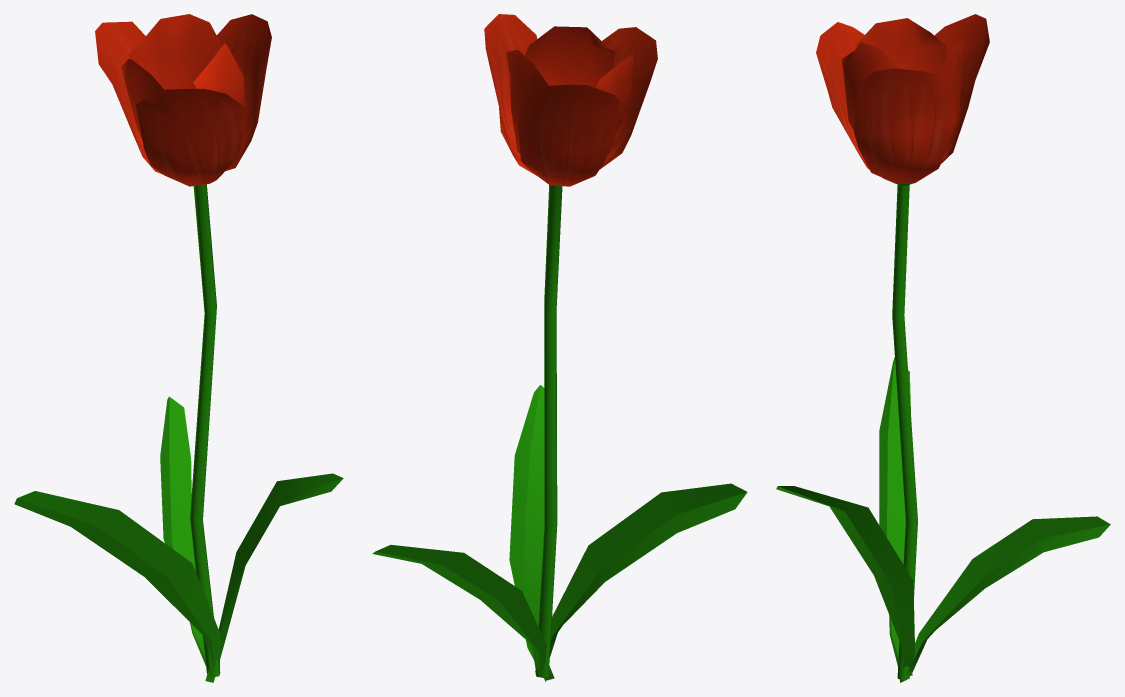
The model's file is Tulip Stage 3.fbx.
The picture shows the model from 3 angles, left to right: view 1: azimuth 30°, elevation 25°; view 2: azimuth 150°, elevation 25°; view 3: azimuth 270°, elevation 25°; orthographic projection. The views are drawn at different scales.
Parts seen in each view (by area): view 1: Tulip_Stage_3; view 2: Tulip_Stage_3; view 3: Tulip_Stage_3.
Boxes of the visible parts, left/top/right/bottom form: Tulip_Stage_3: left=14, top=14, right=343, bottom=682; Tulip_Stage_3: left=372, top=14, right=747, bottom=681; Tulip_Stage_3: left=776, top=14, right=1110, bottom=682.
Size of the model in its own units: 0.34 by 0.7809 by 0.3709.
2 materials, 1 textured.
